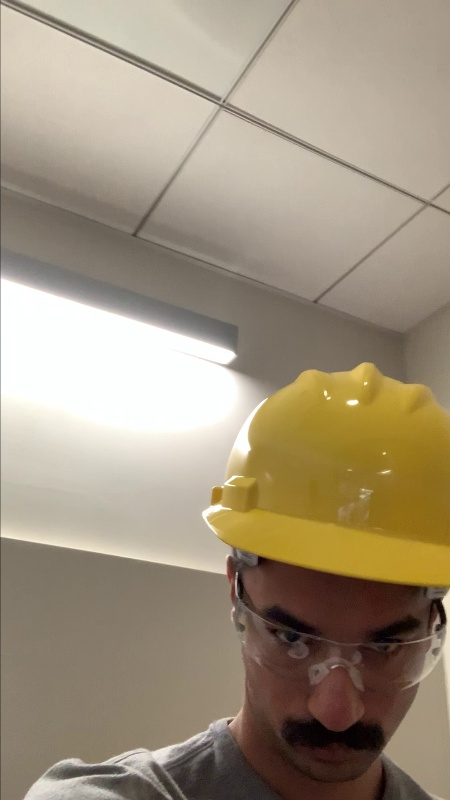glasses: (235, 603, 441, 686)
helmet: (195, 357, 450, 590)
